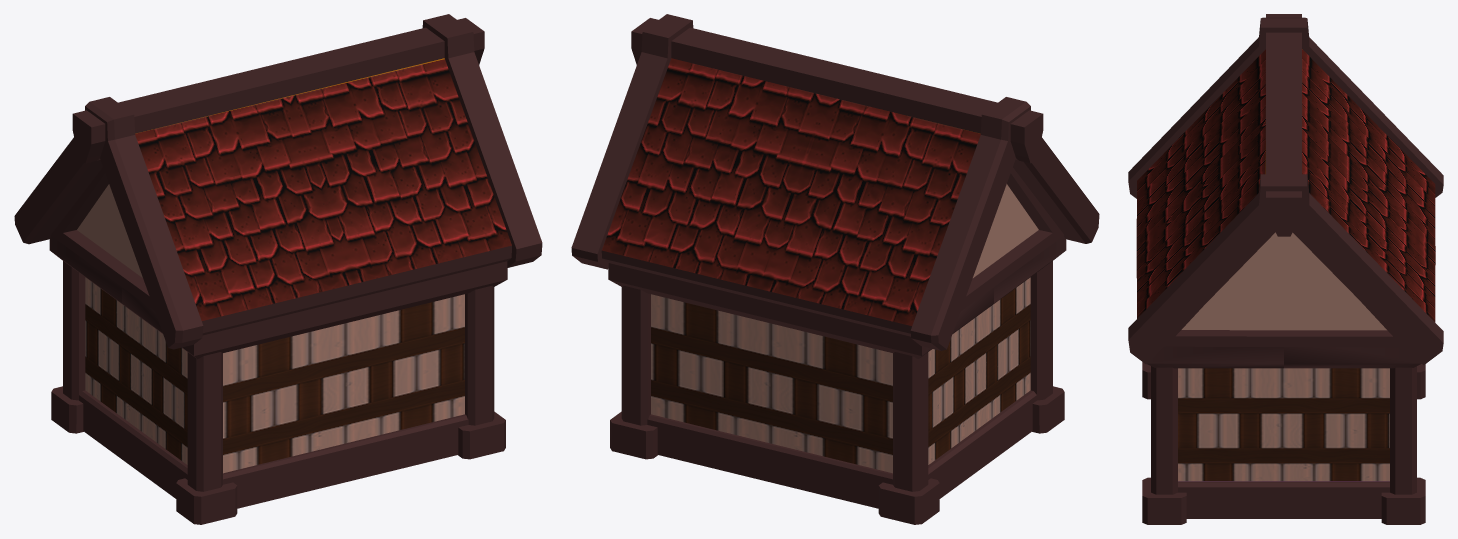
File: House.fbx
3 views of the same model, side by side, from view 1: azimuth 30°, elevation 25°; view 2: azimuth 150°, elevation 25°; view 3: azimuth 270°, elevation 25° (orthographic). The views are drawn at different scales.
Parts seen in each view (by area): view 1: House; view 2: House; view 3: House.
Part boxes in pixels (box(x1,y1,x2,y2)): House: box(14, 14, 542, 524); House: box(571, 14, 1099, 524); House: box(1128, 14, 1443, 524).
Size of the model in its own units: 626 by 557 by 454.
